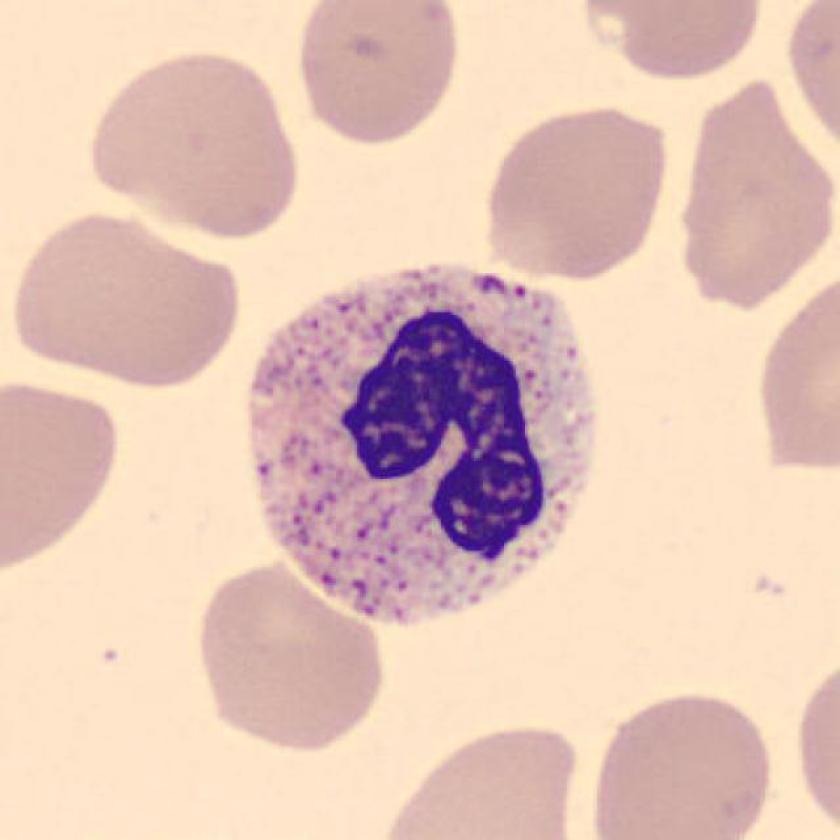neutrophil: (249, 268, 593, 630)
